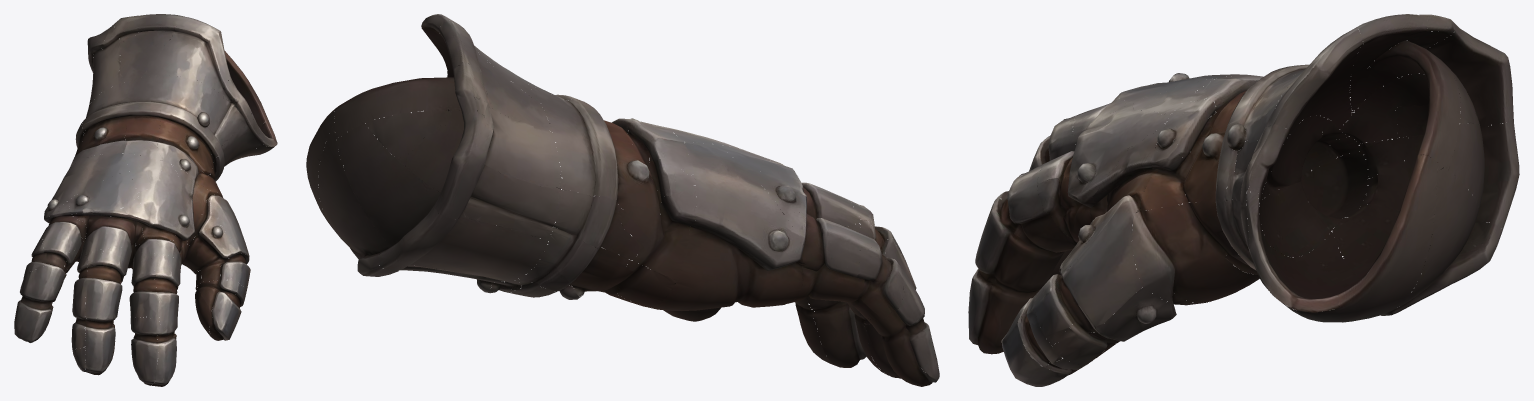
The model's file is gauntlet_n.glb.
The picture shows the model from 3 angles, left to right: view 1: azimuth 30°, elevation 25°; view 2: azimuth 150°, elevation 25°; view 3: azimuth 270°, elevation 25°; orthographic projection. The views are drawn at different scales.
Parts seen in each view (by area): view 1: tripo_node_93c9077b-4053-4911-b520-65c91295001a; view 2: tripo_node_93c9077b-4053-4911-b520-65c91295001a; view 3: tripo_node_93c9077b-4053-4911-b520-65c91295001a.
Part boxes in pixels (x1,y1,x2,y2): tripo_node_93c9077b-4053-4911-b520-65c91295001a: (14, 14, 277, 386); tripo_node_93c9077b-4053-4911-b520-65c91295001a: (306, 14, 939, 386); tripo_node_93c9077b-4053-4911-b520-65c91295001a: (968, 14, 1519, 386).
Bounding box in the file's own units: 0.9803 × 0.7598 × 0.8721.
Materials: 1 (1 with a texture image).
